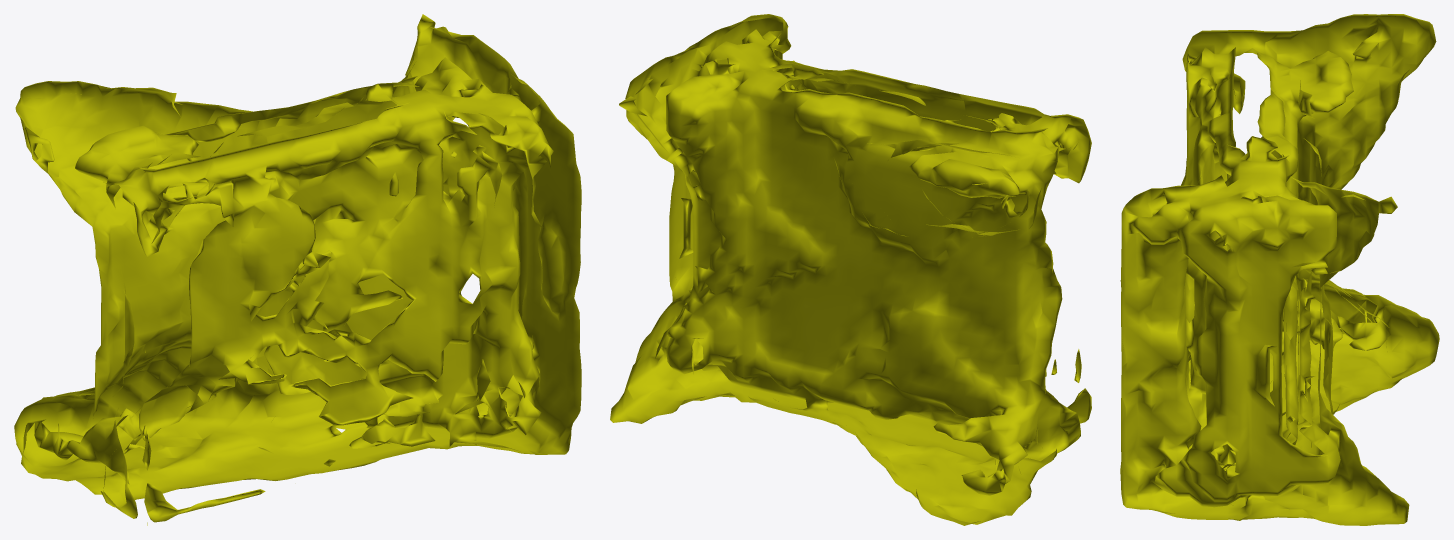
3 renders of one model, left to right at view 1: azimuth 30°, elevation 25°; view 2: azimuth 150°, elevation 25°; view 3: azimuth 270°, elevation 25°, orthographic. The views are drawn at different scales.
Visible parts, largest first — view 1: world; view 2: world; view 3: world.
Boxes of the visible parts, x1,y1,x2,y2 form: world: (14, 14, 581, 525); world: (610, 14, 1091, 525); world: (1120, 14, 1439, 525).
Bounding box in the file's own units: 37.88 × 30.01 × 25.29.
